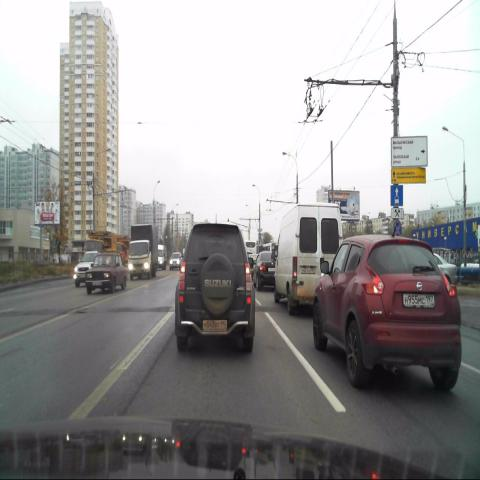5_14: (390, 186, 402, 207)
